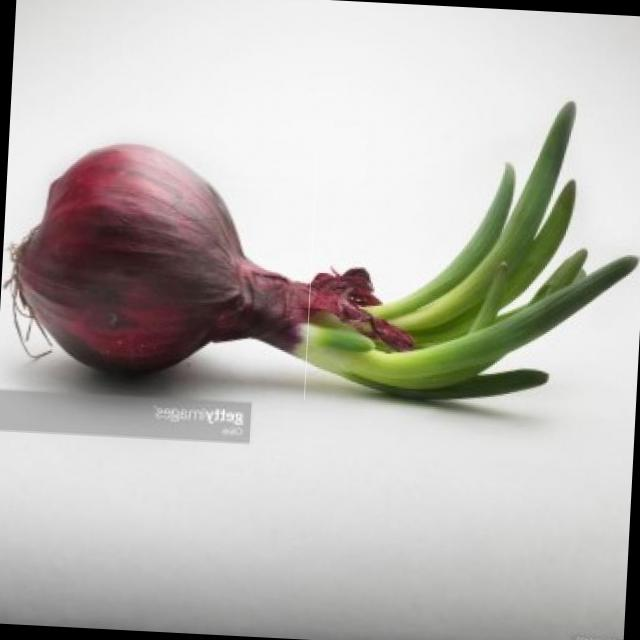Onion: (0, 131, 318, 399)
